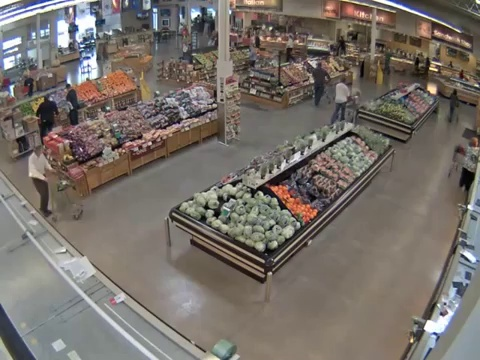face: (34, 148, 42, 155)
